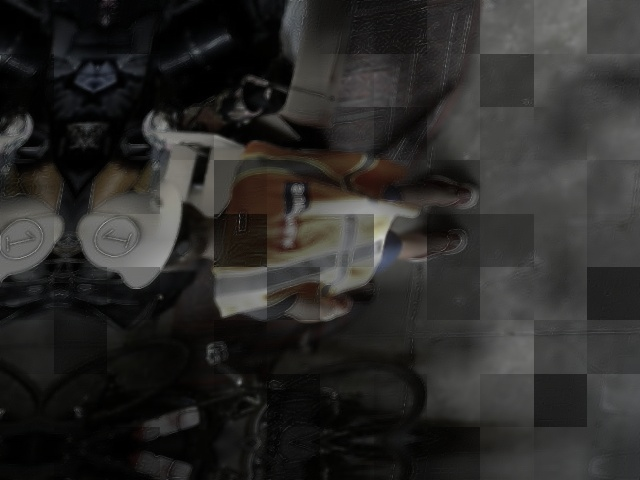one: (90, 215, 141, 256)
